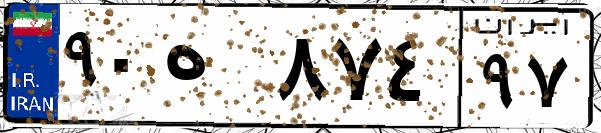0: (110, 28, 158, 98)
4: (385, 28, 445, 110)
7: (330, 28, 385, 110), (525, 38, 570, 115)
8: (270, 28, 330, 110)
9: (57, 26, 110, 100), (475, 38, 525, 113)
ه: (158, 20, 270, 120)
